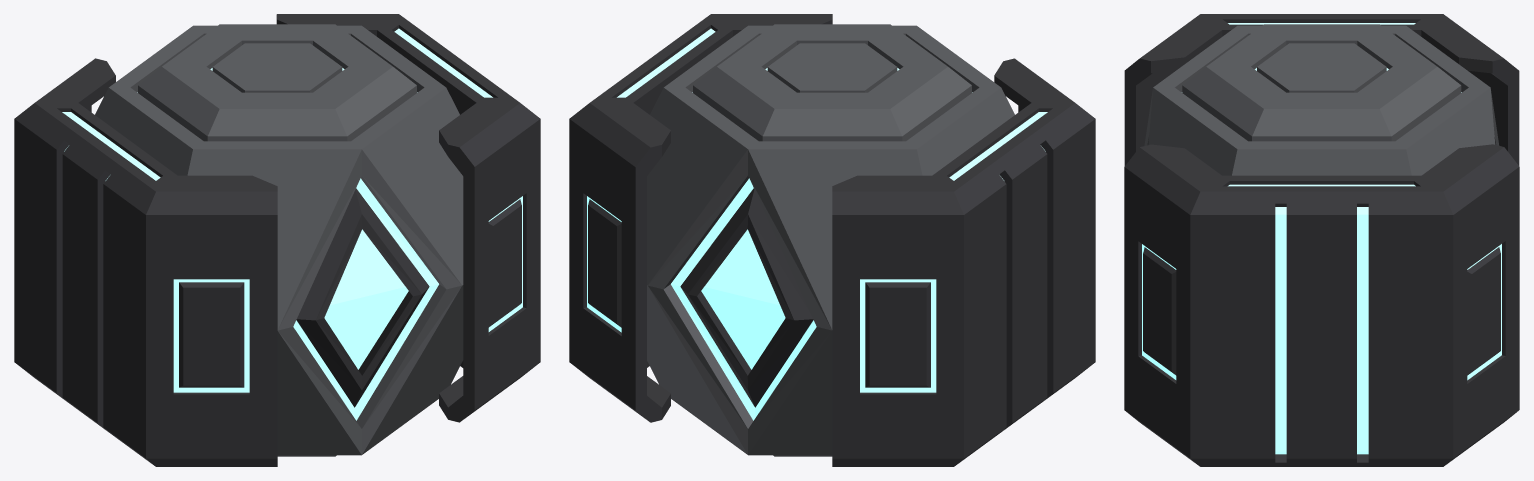
Rendered from SM_Thorium_Core.fbx.
The picture shows the model from 3 angles, left to right: view 1: azimuth 30°, elevation 25°; view 2: azimuth 150°, elevation 25°; view 3: azimuth 270°, elevation 25°; orthographic projection.
Parts seen in each view (by area): view 1: SM_Thorium_Core; view 2: SM_Thorium_Core; view 3: SM_Thorium_Core.
Boxes of the visible parts, <box> form: SM_Thorium_Core: <box>14,14,540,466</box>; SM_Thorium_Core: <box>569,14,1095,466</box>; SM_Thorium_Core: <box>1124,14,1519,466</box>.
Bounding box in the file's own units: 12.81 × 10.78 × 11.11.
